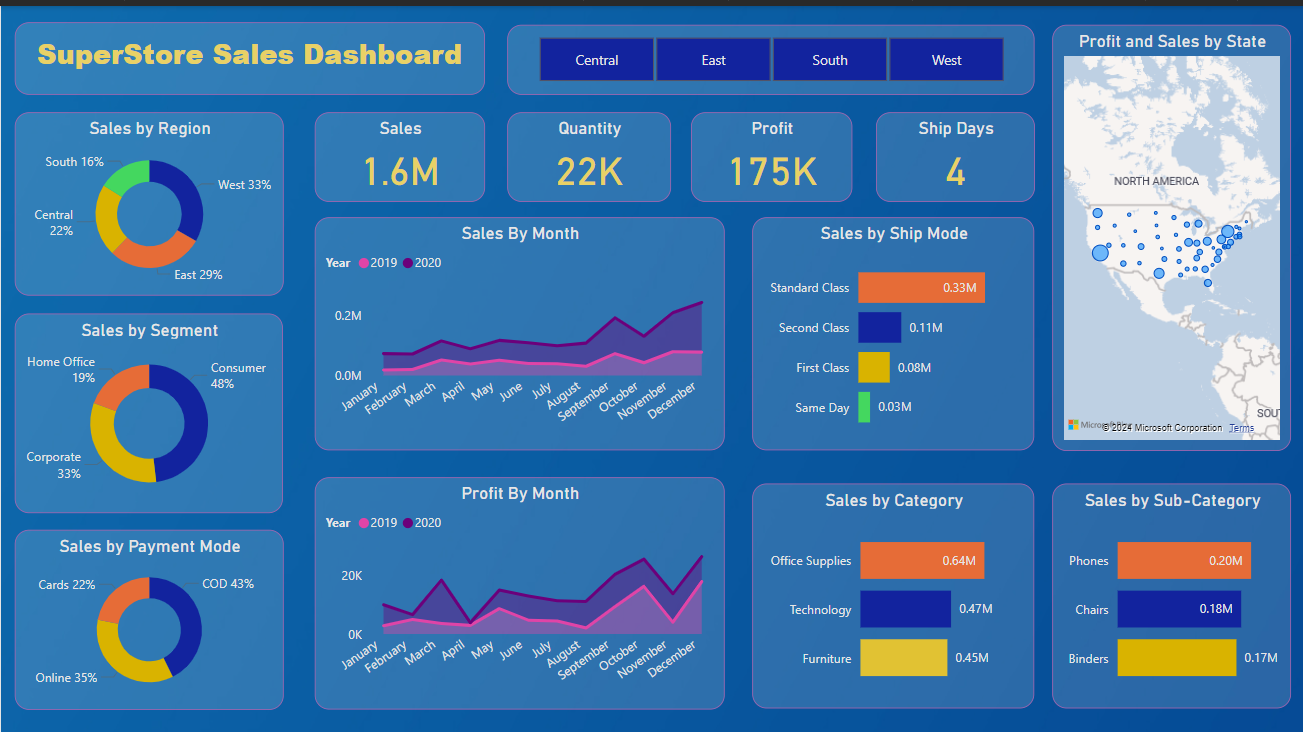

This screenshot's page, from the dashboard's own definition file:
{"tool":"powerbi","page":{"name":"Page 1","canvas":[1280,720],"ordinal":0},"visuals":[{"type":"clusteredBarChart","title":"Sales by Category","fields":{"Category":["SuperStore_Sales_Dataset.Category"],"Y":["Sum(SuperStore_Sales_Dataset.Sales)"]},"box":[736.9,469.3,277.2,220.9],"z":0},{"type":"clusteredBarChart","title":"Sales by Sub-Category","fields":{"Category":["SuperStore_Sales_Dataset.Sub-Category"],"Y":["Sum(SuperStore_Sales_Dataset.Sales)"]},"box":[1031.9,469.3,234.6,220.9],"z":1000},{"type":"clusteredBarChart","title":"Sales by Ship Mode","fields":{"Category":["SuperStore_Sales_Dataset.Ship Mode"],"Y":["Sum(SuperStore_Sales_Dataset.Sales)"]},"box":[736.9,207.2,277.2,229.2],"z":2000},{"type":"stackedAreaChart","title":"Sales By Month","fields":{"Y":["Sum(SuperStore_Sales_Dataset.Sales)"],"Category":["SuperStore_Sales_Dataset.Order Date.Variation.Date Hierarchy.Month","SuperStore_Sales_Dataset.Order Date.Variation.Date Hierarchy.Day"],"Series":["SuperStore_Sales_Dataset.Order Date.Variation.Date Hierarchy.Year"]},"box":[307.4,207.2,402.1,229.2],"z":3000},{"type":"stackedAreaChart","title":"Profit By Month","fields":{"Category":["SuperStore_Sales_Dataset.Order Date.Variation.Date Hierarchy.Month","SuperStore_Sales_Dataset.Order Date.Variation.Date Hierarchy.Day"],"Series":["SuperStore_Sales_Dataset.Order Date.Variation.Date Hierarchy.Year"],"Y":["Sum(SuperStore_Sales_Dataset.Profit)"]},"box":[307.4,462.4,402.1,227.8],"z":4000},{"type":"map","title":"Profit and Sales by State","fields":{"Category":["SuperStore_Sales_Dataset.State"],"Size":["Sum(SuperStore_Sales_Dataset.Sales)"]},"box":[1031.9,17.8,234.6,418.5],"z":5000},{"type":"donutChart","title":"Sales by Segment","fields":{"Category":["SuperStore_Sales_Dataset.Segment"],"Y":["Sum(SuperStore_Sales_Dataset.Sales)"]},"box":[13.7,301.9,263.5,196.2],"z":6000},{"type":"donutChart","title":"Sales by Payment Mode","fields":{"Category":["SuperStore_Sales_Dataset.Payment Mode"],"Y":["Sum(SuperStore_Sales_Dataset.Sales)"]},"box":[13.5,514.1,263.8,176.7],"z":7000},{"type":"slicer","fields":{"Values":["SuperStore_Sales_Dataset.Region"]},"box":[496.7,17.8,517.3,68.6],"z":8000},{"type":"textbox","box":[13.5,16,461.4,71.2],"z":9000},{"type":"card","title":"Sales","fields":{"Values":["Sum(SuperStore_Sales_Dataset.Sales)"]},"box":[308,104.3,166.9,88.3],"z":10000},{"type":"card","title":"Quantity","fields":{"Values":["Sum(SuperStore_Sales_Dataset.Quantity)"]},"box":[496.9,104.3,160.7,88.3],"z":11000},{"type":"card","title":"Profit","fields":{"Values":["Sum(SuperStore_Sales_Dataset.Profit)"]},"box":[677.3,104.3,158.3,88.3],"z":12000},{"type":"card","title":"Ship Days","fields":{"Values":["Avg(SuperStore_Sales_Dataset.AvgDelivery)"]},"box":[858.9,104.3,155.8,88.3],"z":13000},{"type":"donutChart","title":"Sales by Region","fields":{"Category":["SuperStore_Sales_Dataset.Region"],"Y":["Sum(SuperStore_Sales_Dataset.Sales)"]},"box":[13.5,104.3,263.8,180.4],"z":13001}]}

Visuals, with their boxes in screenshot pixels (x1, y1, x2, y2), scaled from the page's 1280x720 canvas onto the 1303x732 screenshot:
"Sales by Category" clusteredBarChart: x1=750, y1=477, x2=1032, y2=702
"Sales by Sub-Category" clusteredBarChart: x1=1050, y1=477, x2=1289, y2=702
"Sales by Ship Mode" clusteredBarChart: x1=750, y1=211, x2=1032, y2=444
"Sales By Month" stackedAreaChart: x1=313, y1=211, x2=722, y2=444
"Profit By Month" stackedAreaChart: x1=313, y1=470, x2=722, y2=702
"Profit and Sales by State" map: x1=1050, y1=18, x2=1289, y2=444
"Sales by Segment" donutChart: x1=14, y1=307, x2=282, y2=506
"Sales by Payment Mode" donutChart: x1=14, y1=523, x2=282, y2=702
slicer - SuperStore_Sales_Dataset.Region: x1=506, y1=18, x2=1032, y2=88
textbox: x1=14, y1=16, x2=483, y2=89
"Sales" card: x1=314, y1=106, x2=483, y2=196
"Quantity" card: x1=506, y1=106, x2=669, y2=196
"Profit" card: x1=689, y1=106, x2=851, y2=196
"Ship Days" card: x1=874, y1=106, x2=1033, y2=196
"Sales by Region" donutChart: x1=14, y1=106, x2=282, y2=289
